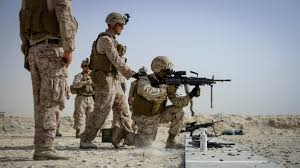gun: (149, 70, 231, 97), (179, 118, 226, 136)
